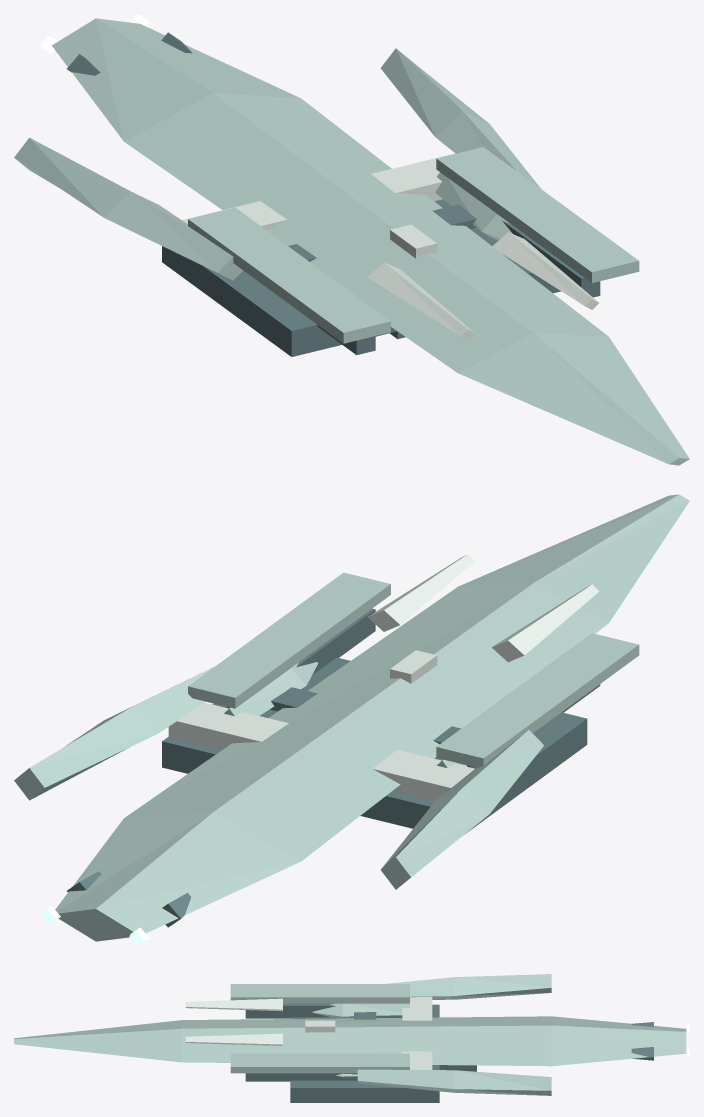
3 renders of one model, top to bottom at view 1: azimuth 30°, elevation 25°; view 2: azimuth 150°, elevation 25°; view 3: azimuth 270°, elevation 25°, orthographic. The views are drawn at different scales.
Bounding box in the file's own units: 8 × 1.78 × 20.45.
